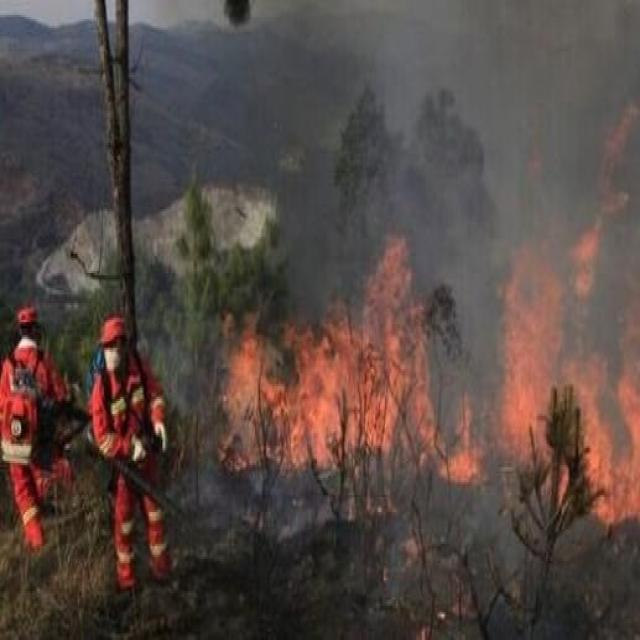Fire: (219, 237, 486, 486), (501, 106, 640, 522)
Smoke: (357, 1, 640, 282)
